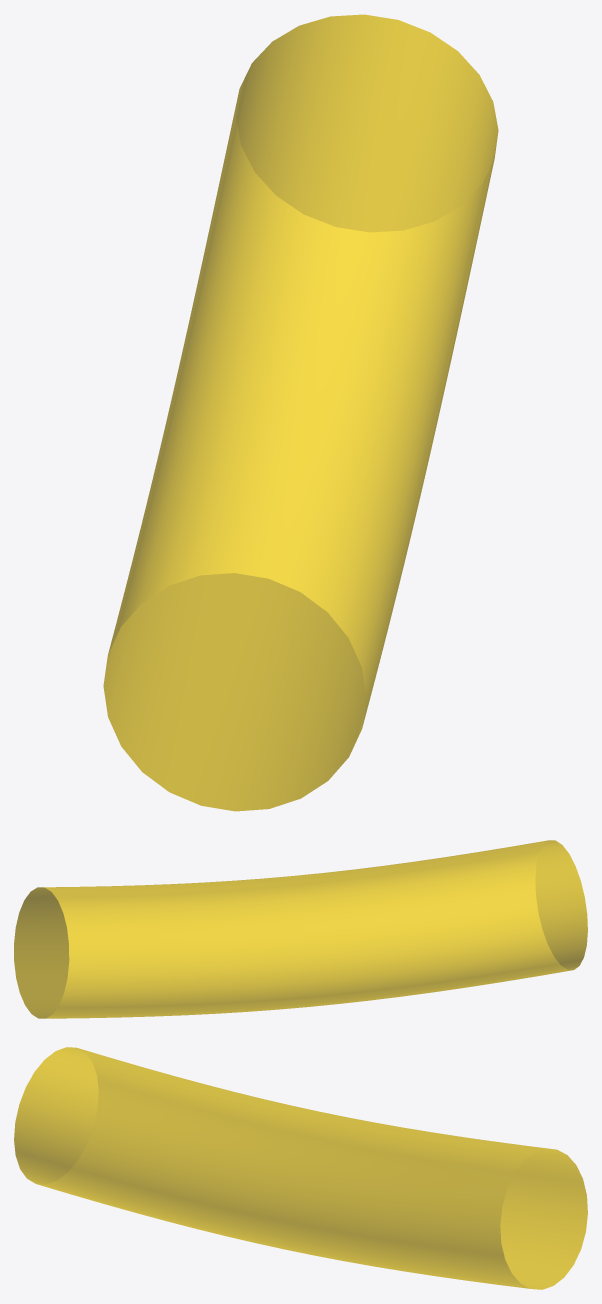
File: Event_17758602_track_60.fbx
The picture shows the model from 3 angles, top to bottom: view 1: azimuth 30°, elevation 25°; view 2: azimuth 150°, elevation 25°; view 3: azimuth 270°, elevation 25°; orthographic projection. The views are drawn at different scales.
Visible parts, largest first — view 1: Model; view 2: Model; view 3: Model.
Part boxes in pixels (x1,y1,x2,y2): Model: (103, 14, 498, 811); Model: (14, 840, 587, 1018); Model: (14, 1047, 587, 1289).
Size of the model in its own units: 0.1343 by 0.0553 by 0.1614.
